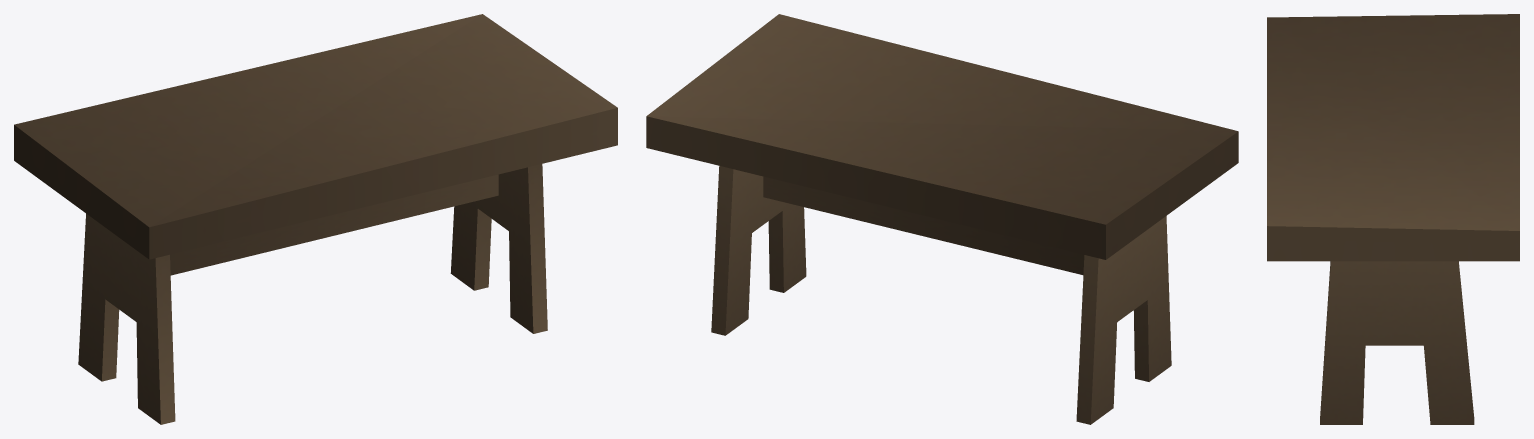
File: ZLP_Build_D_21.FBX
3 views of the same model, side by side, from view 1: azimuth 30°, elevation 25°; view 2: azimuth 150°, elevation 25°; view 3: azimuth 270°, elevation 25° (orthographic). The views are drawn at different scales.
Parts seen in each view (by area): view 1: ZLP_Build_D_21; view 2: ZLP_Build_D_21; view 3: ZLP_Build_D_21.
Part boxes in pixels (bbox=[...]): ZLP_Build_D_21: bbox=[14, 14, 617, 424]; ZLP_Build_D_21: bbox=[646, 14, 1238, 424]; ZLP_Build_D_21: bbox=[1267, 14, 1519, 424].
Size of the model in its own units: 103 by 48.86 by 51.35.
